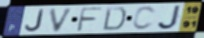C: (131, 6, 157, 31)
D: (101, 6, 128, 32)
F: (75, 7, 104, 33)
J: (156, 5, 183, 31), (24, 9, 46, 33)
V: (48, 7, 76, 33)
